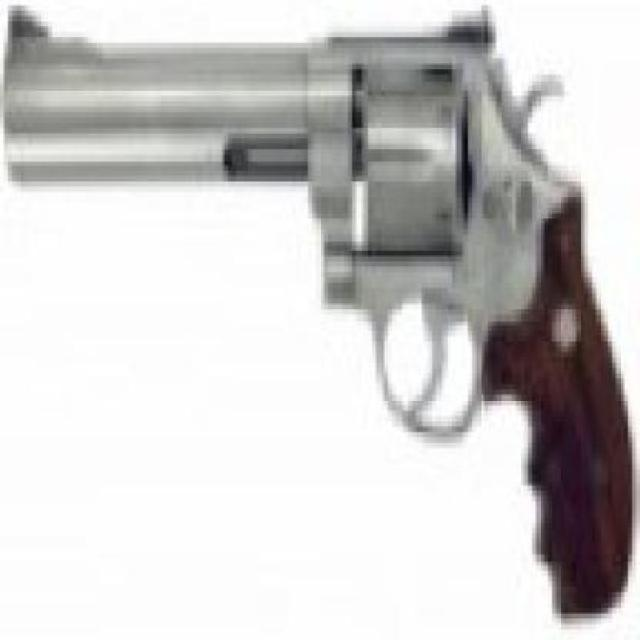gun: (8, 5, 616, 619)
